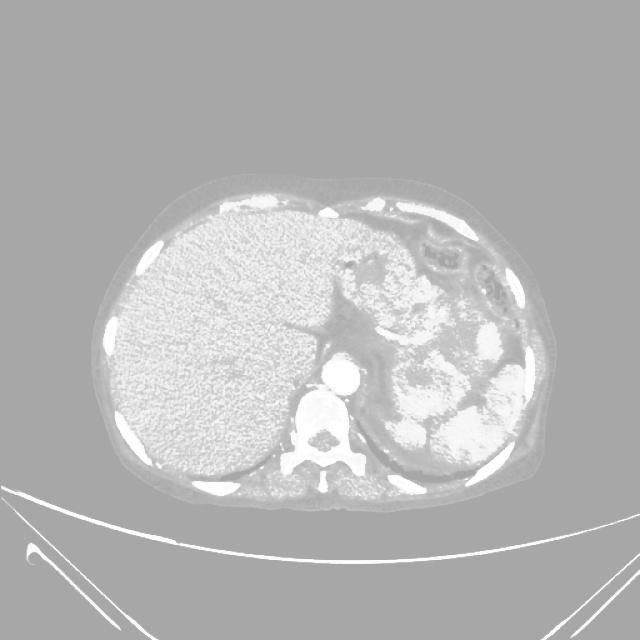TUMOR: (434, 202, 551, 512)
